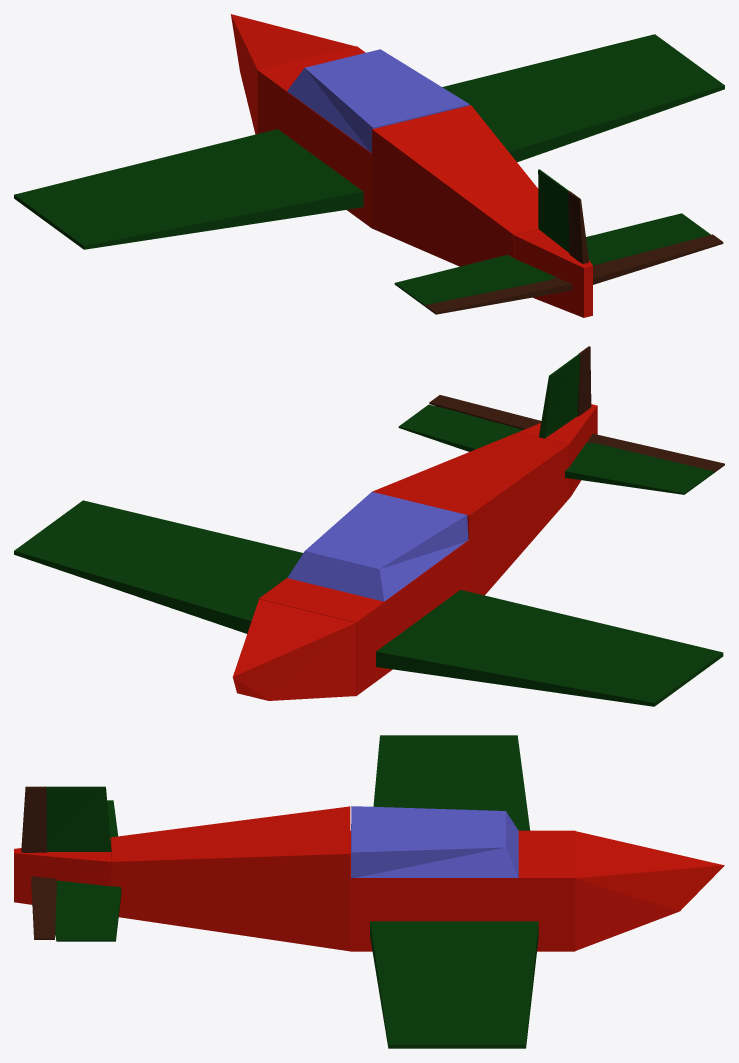
File: drone.obj
The picture shows the model from 3 angles, top to bottom: view 1: azimuth 30°, elevation 25°; view 2: azimuth 150°, elevation 25°; view 3: azimuth 270°, elevation 25°; orthographic projection.
Visible parts, largest first — view 1: Cube.004_Material.003, Cube.004_Material.001, Cube.004_Material.002, Cube.004_Material, Cube.004_Material.004; view 2: Cube.004_Material.003, Cube.004_Material.001, Cube.004_Material.002, Cube.004_Material, Cube.004_Material.004; view 3: Cube.004_Material.001, Cube.004_Material.003, Cube.004_Material, Cube.004_Material.002, Cube.004_Material.004.
Part boxes in pixels (box(x1,y1,x2,y2)): Cube.004_Material.003: box(14, 34, 724, 306); Cube.004_Material.001: box(231, 14, 592, 317); Cube.004_Material.002: box(287, 49, 469, 153); Cube.004_Material: box(257, 46, 371, 228); Cube.004_Material.004: box(425, 191, 723, 314); Cube.004_Material.003: box(14, 354, 723, 706); Cube.004_Material.001: box(232, 404, 597, 700); Cube.004_Material.002: box(287, 492, 468, 601); Cube.004_Material: box(258, 540, 468, 696); Cube.004_Material.004: box(429, 346, 724, 472); Cube.004_Material.001: box(14, 806, 724, 951); Cube.004_Material.003: box(46, 735, 538, 1048); Cube.004_Material: box(350, 830, 575, 951); Cube.004_Material.002: box(351, 806, 518, 877); Cube.004_Material.004: box(21, 786, 56, 939).
Bounding box in the file's own units: 13.03 × 2.7 × 12.65.
